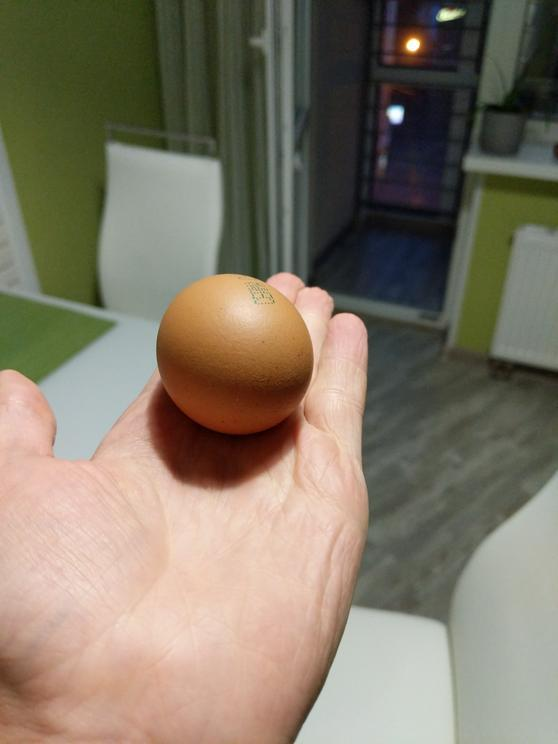egg: (141, 263, 324, 438)
